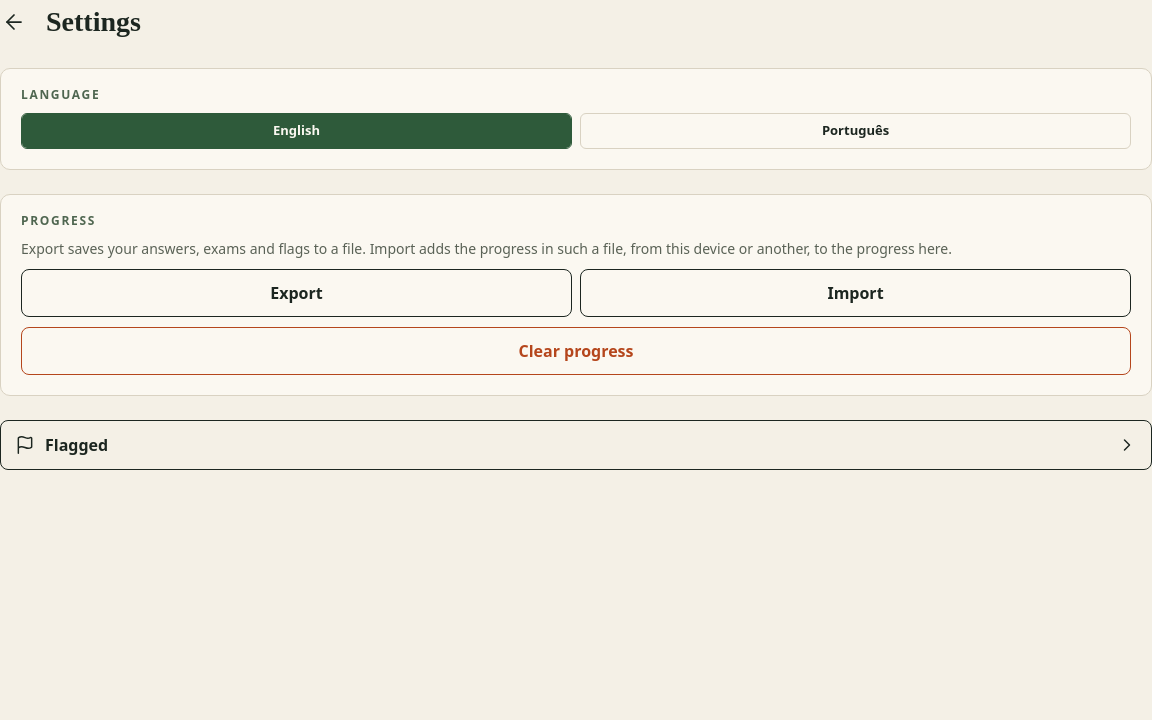
Settings clear progress › asks first, clears only on confirm, empties the recent window and keeps the language
Click the button "Clear progress" at (576, 351), box [21,327,1131,375]
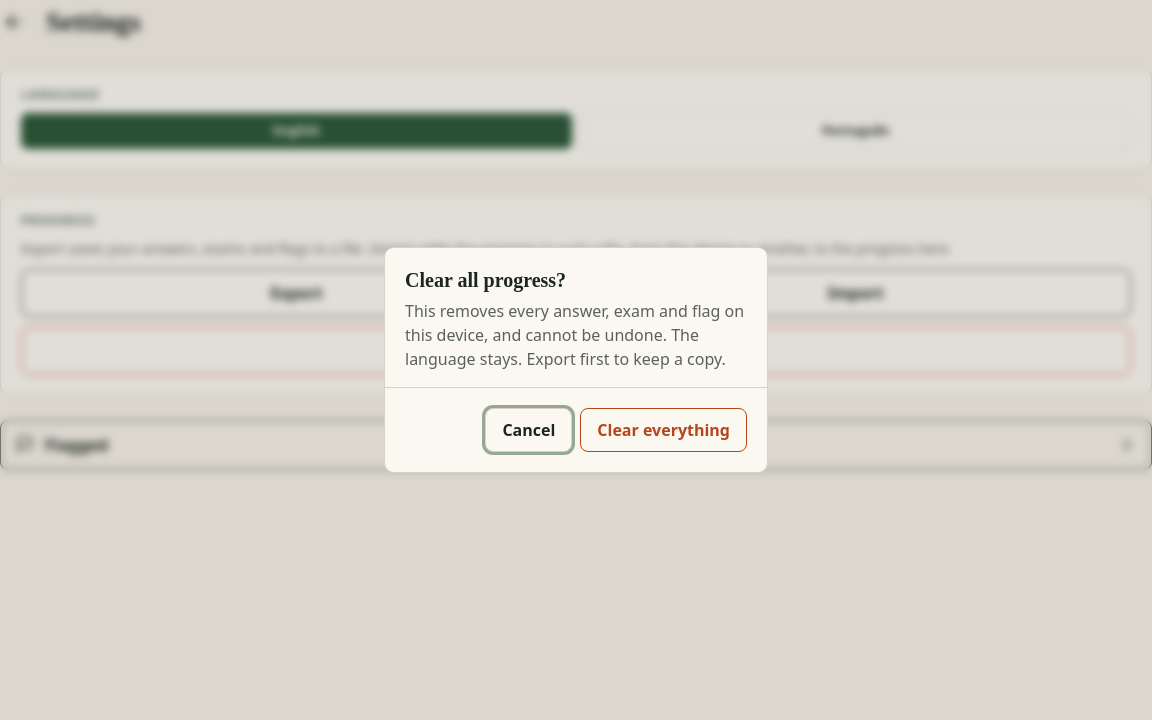
Check: the dialog shows "Clear all progress?", box [405,269,566,291]
Click the button "Cancel" at (529, 430), box [485,408,572,452]
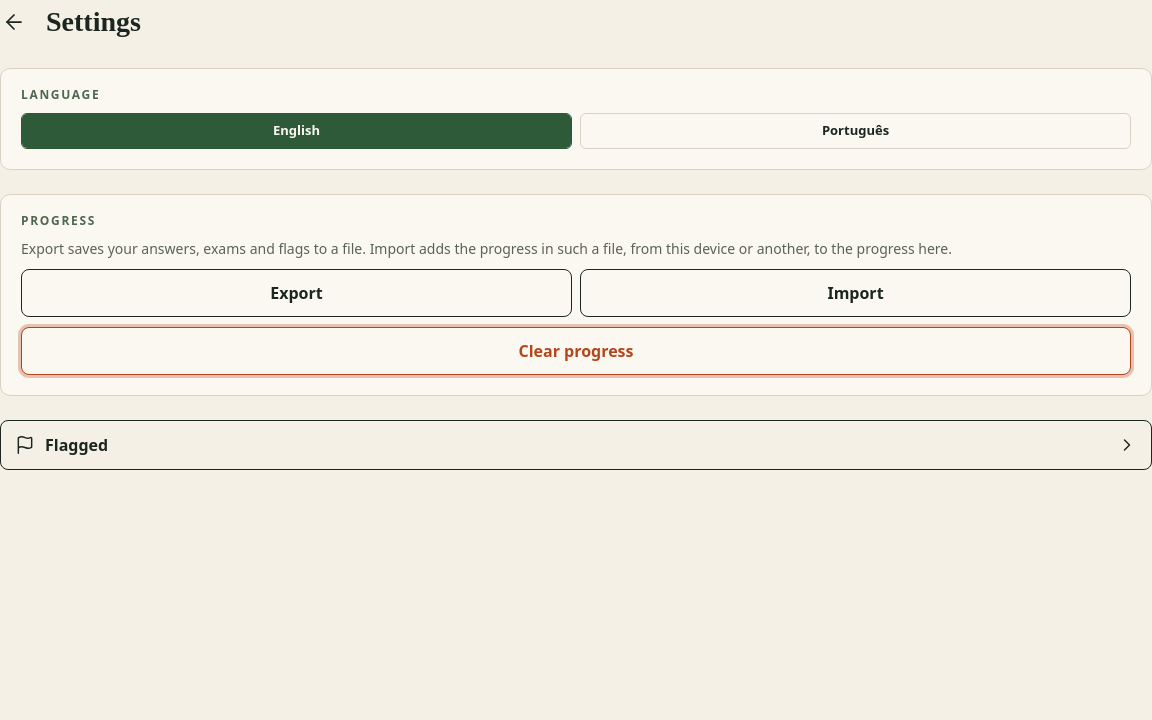
Check: the dialog is gone
Click the button "Clear progress" at (576, 351), box [21,327,1131,375]
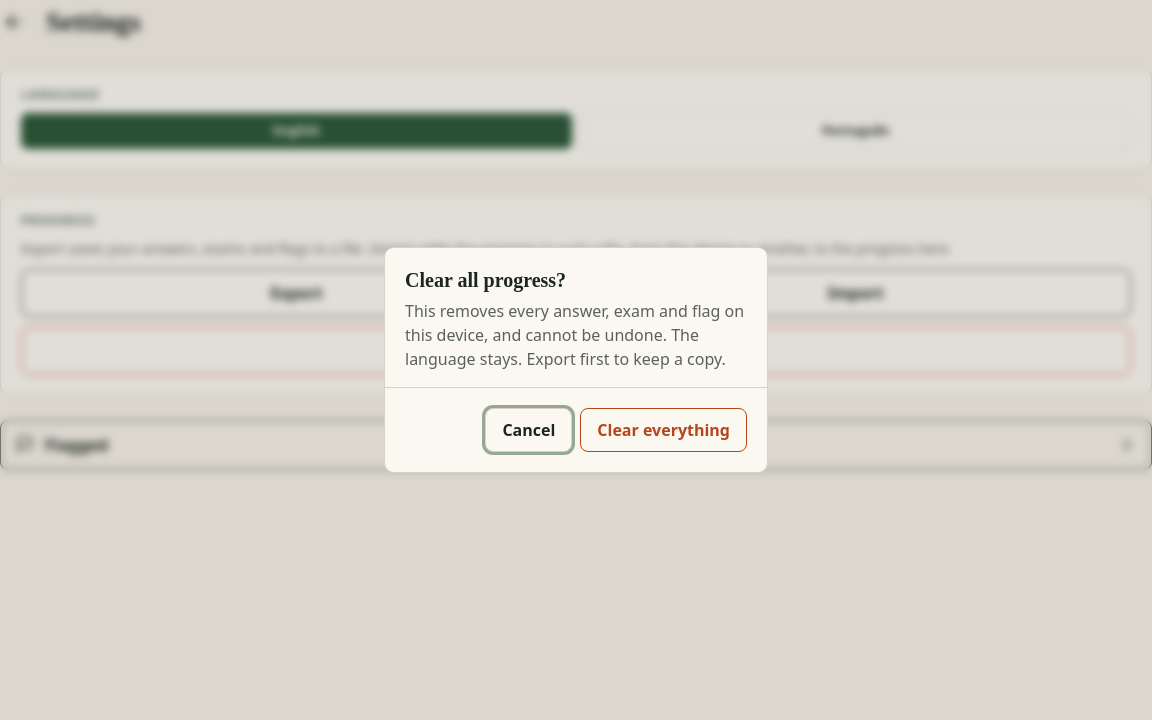
Click the button "Clear everything" at (664, 430), box [580,408,747,452]
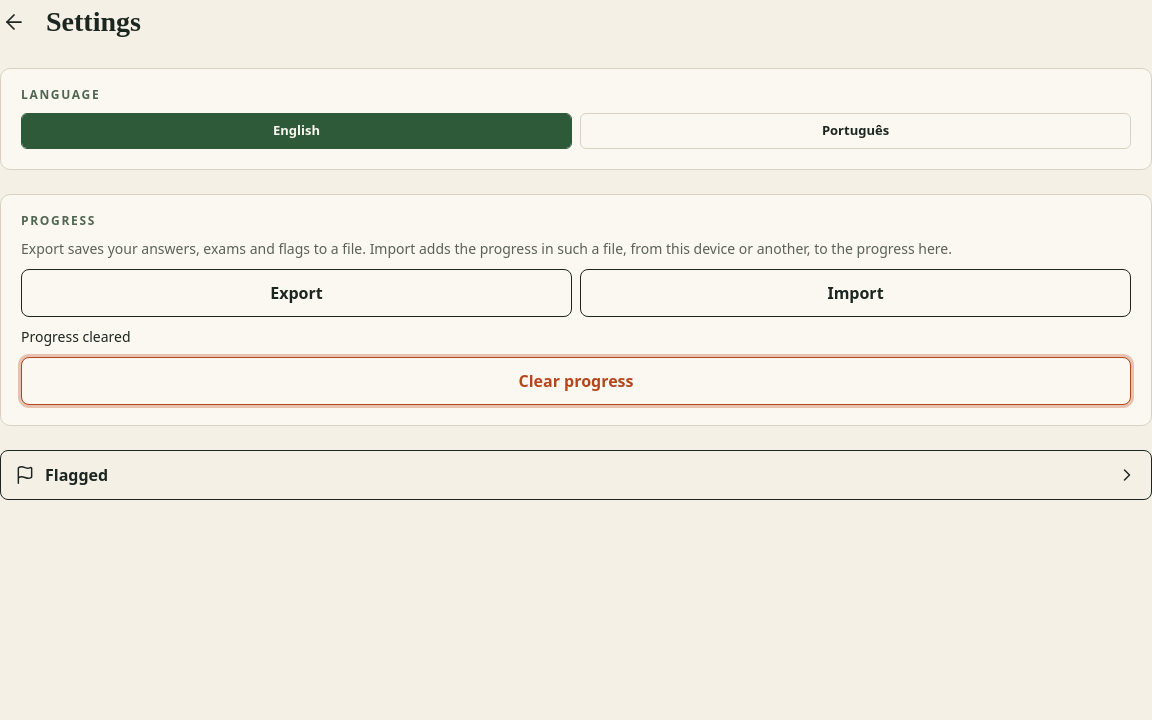
Check: the message reads "Progress cleared", box [21,327,131,346]
Check: the dialog is gone
